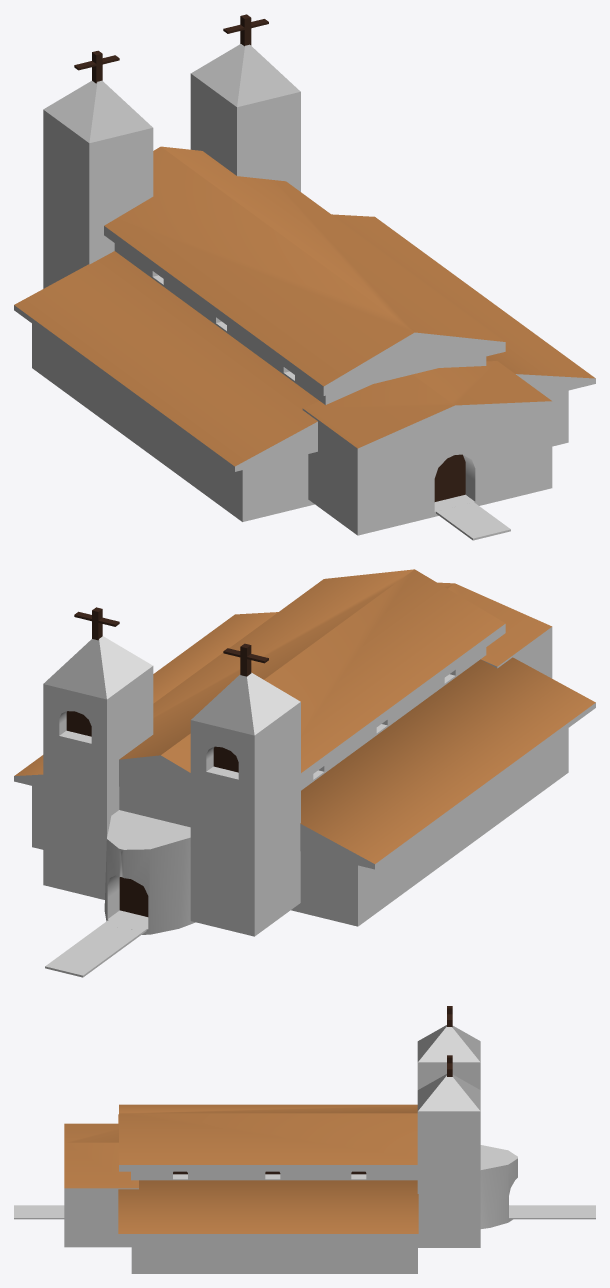
File: iglesiaasko.glb
3 views of the same model, one above another, from view 1: azimuth 30°, elevation 25°; view 2: azimuth 150°, elevation 25°; view 3: azimuth 270°, elevation 25° (orthographic). The views are drawn at different scales.
Visible parts, largest first — view 1: Box030; view 2: Box030; view 3: Box030.
Boxes of the visible parts, box(x1,y1,x2,y2) form: Box030: box(14, 14, 595, 540); Box030: box(14, 569, 595, 977); Box030: box(14, 1006, 595, 1273).
Bounding box in the file's own units: 50.2 × 36.72 × 103.
